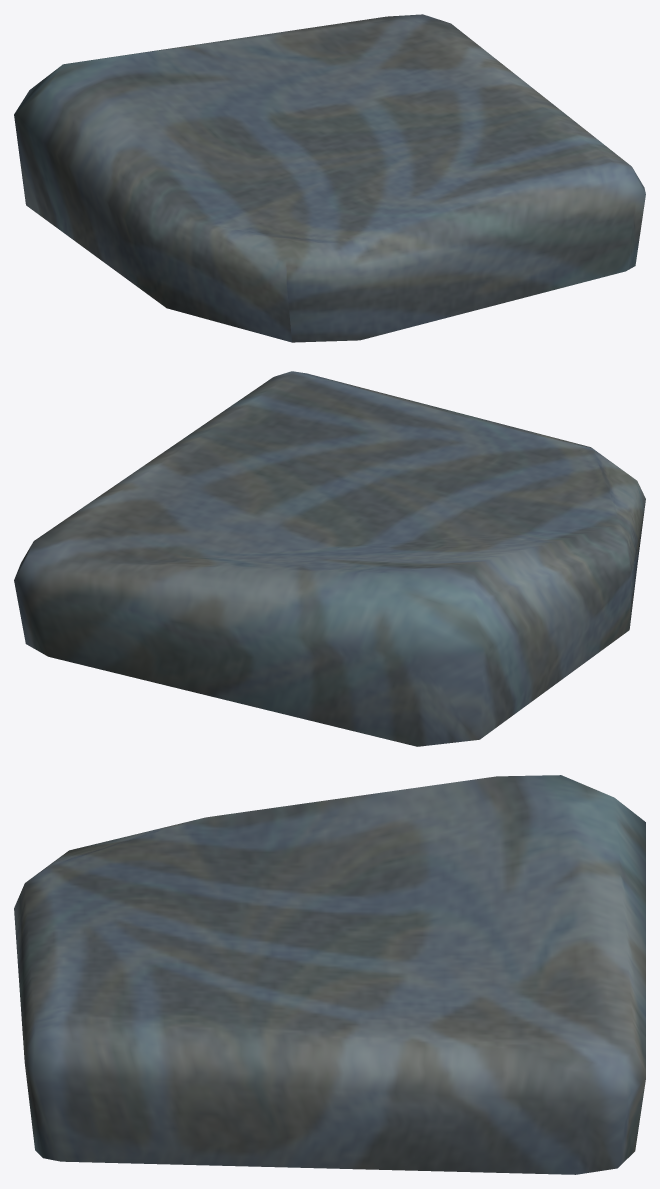
File: BlockTile_B.dae
3 views of the same model, one above another, from view 1: azimuth 30°, elevation 25°; view 2: azimuth 150°, elevation 25°; view 3: azimuth 270°, elevation 25° (orthographic). The views are drawn at different scales.
Visible parts, largest first — view 1: BlockTile_B; view 2: BlockTile_B; view 3: BlockTile_B.
Part boxes in pixels (x1,y1,x2,y2): BlockTile_B: (14, 14, 645, 342); BlockTile_B: (14, 371, 645, 746); BlockTile_B: (14, 775, 645, 1174).
Size of what is drawn, in the model's own units: 89.48 by 25.54 by 89.29.
